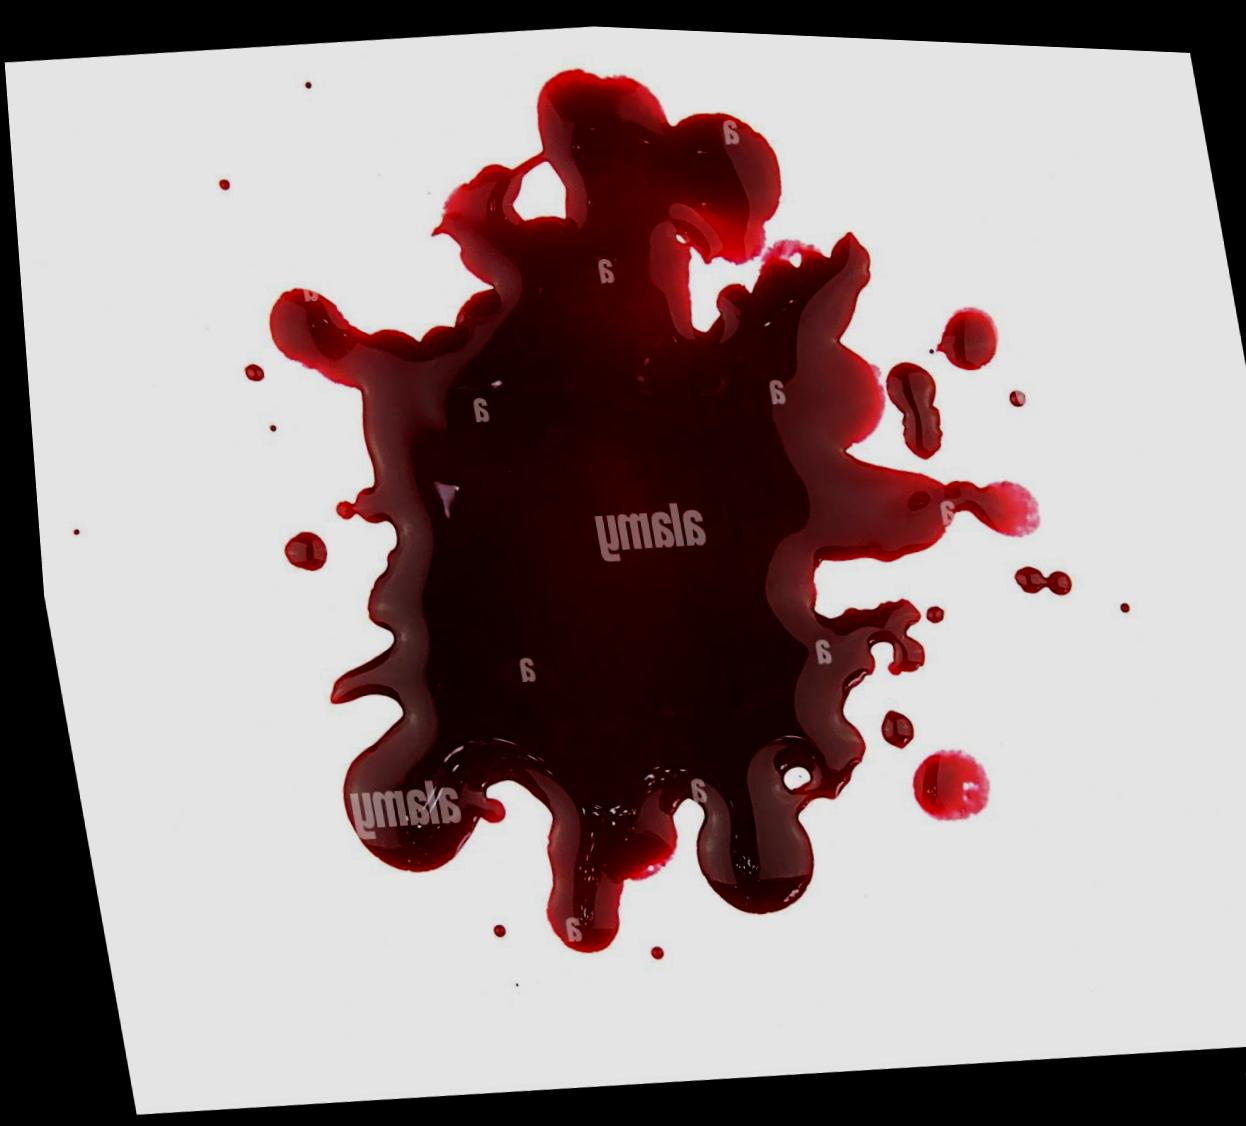Fire: (265, 62, 1033, 948), (901, 738, 979, 812), (881, 353, 937, 451), (931, 298, 994, 360), (276, 528, 319, 568), (1006, 557, 1064, 585), (870, 701, 904, 739)
